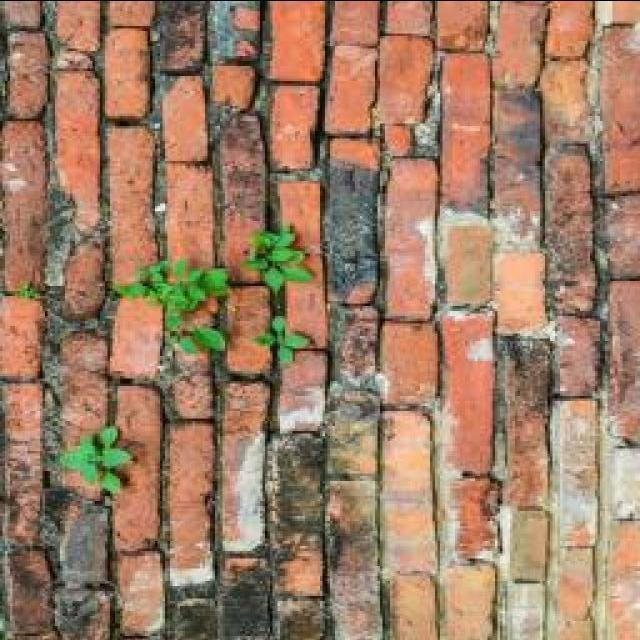crack: (1, 1, 638, 638), (37, 11, 88, 630), (256, 177, 301, 640), (580, 12, 611, 378), (215, 113, 270, 284), (53, 70, 107, 228), (597, 21, 640, 196), (54, 345, 115, 451), (323, 45, 381, 137), (102, 25, 153, 121), (161, 75, 213, 166), (4, 26, 52, 121), (491, 3, 548, 82), (152, 1, 210, 73), (596, 189, 640, 282)
dampness: (3, 357, 165, 640), (185, 373, 307, 638), (155, 0, 221, 346), (93, 0, 156, 352), (0, 384, 52, 640)
vegetation: (26, 222, 314, 497), (411, 202, 573, 334), (116, 257, 231, 353), (243, 227, 317, 360), (325, 157, 382, 303), (41, 191, 107, 310), (42, 292, 108, 385), (60, 426, 134, 493), (1, 280, 46, 380), (404, 56, 448, 157), (209, 2, 267, 66), (491, 204, 546, 259), (115, 260, 176, 304), (250, 225, 299, 258), (10, 281, 44, 301), (169, 258, 189, 282)
